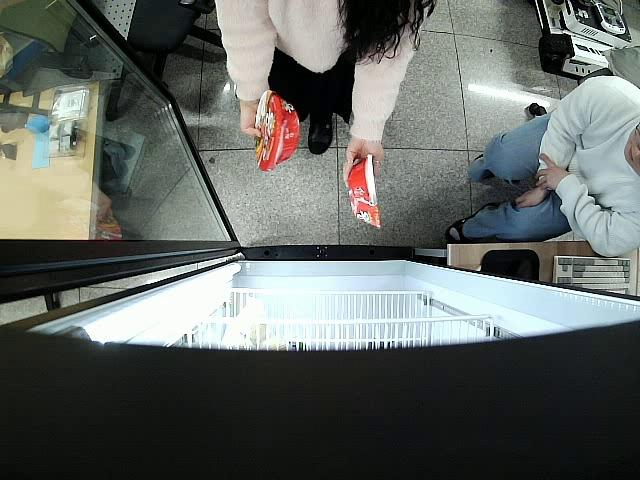00_hand: (343, 138, 381, 182), (535, 151, 566, 193), (239, 96, 264, 139), (515, 182, 548, 211)
10_wangTtukkeong: (252, 89, 301, 174), (347, 154, 383, 231)
